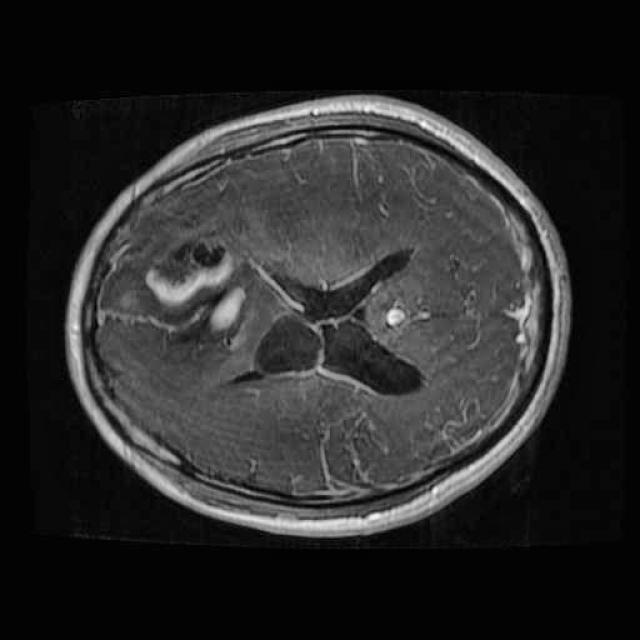Non-Tumor: (246, 301, 334, 389)
